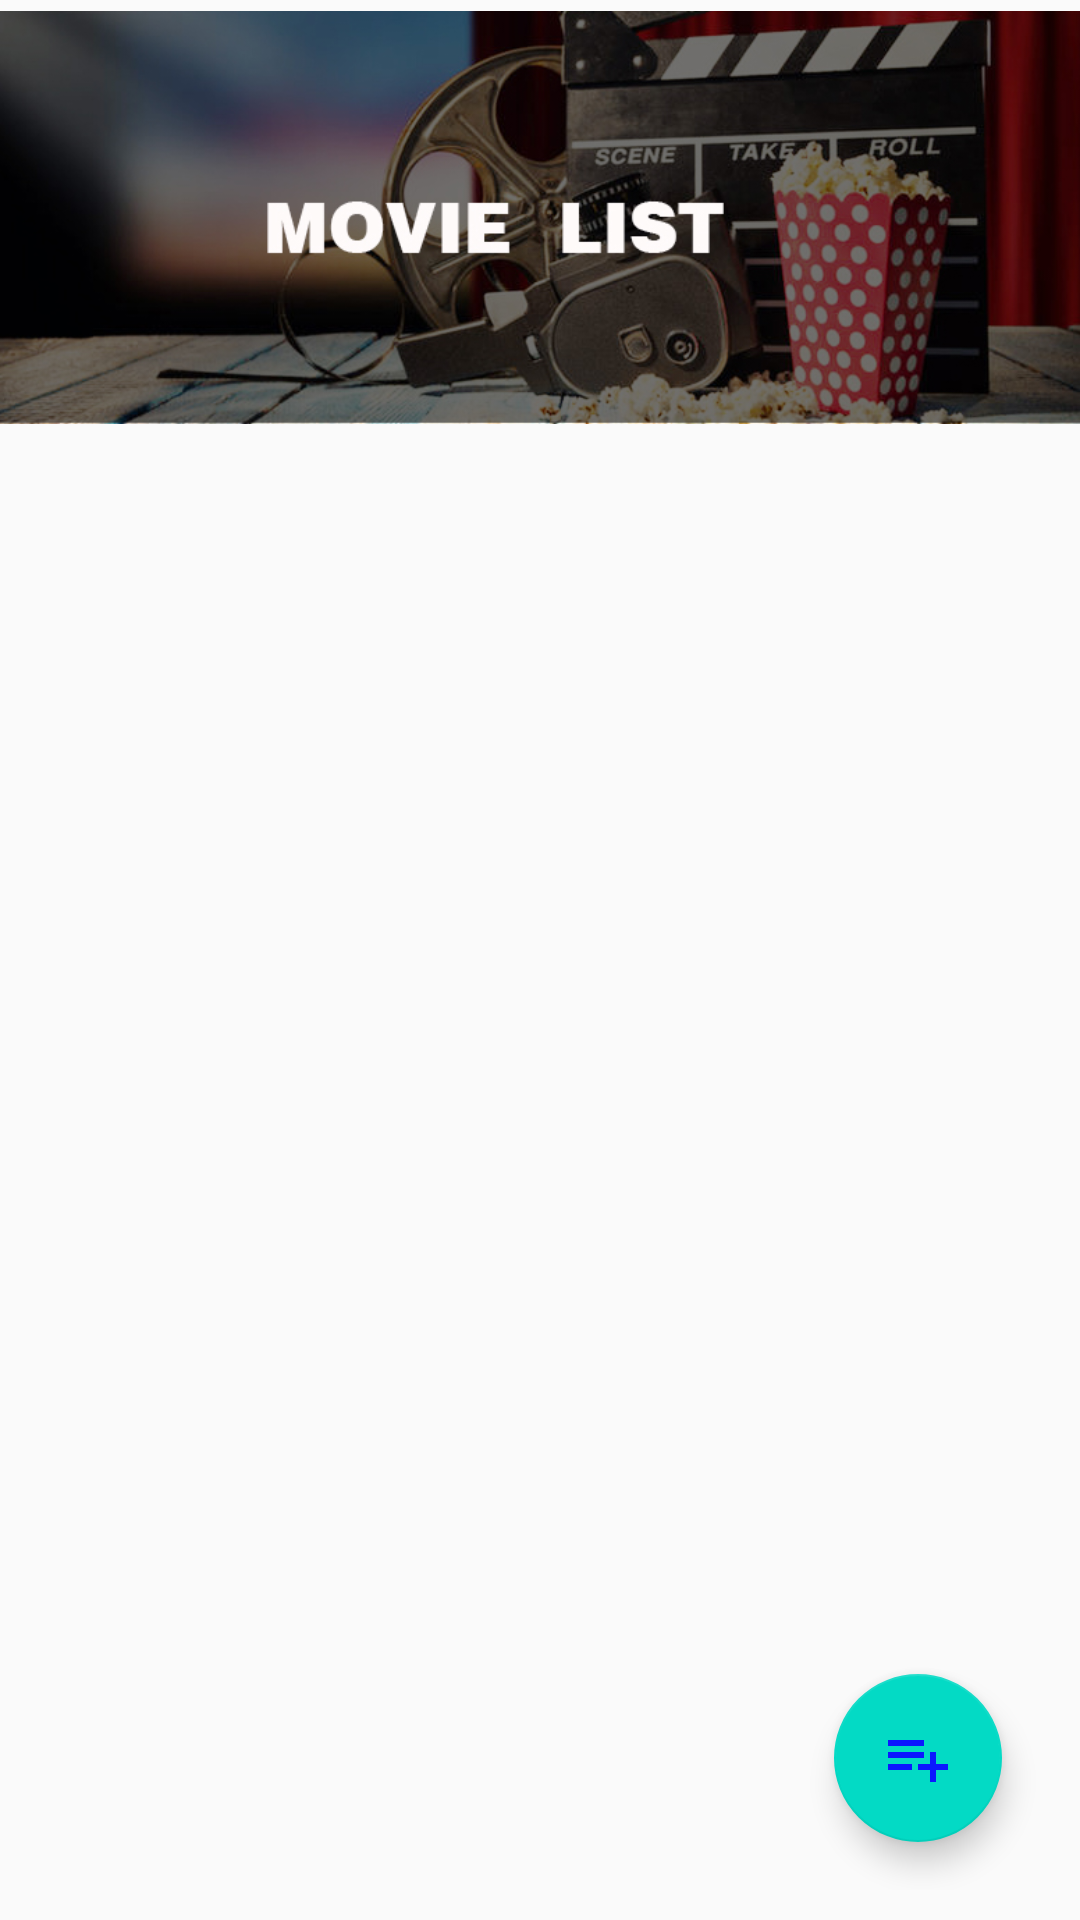

Screen size 1080px×1920px. Icon name, then its box in pixels as (x1, y1, x2, y2):
playlist add: (834, 1674, 1002, 1842)
